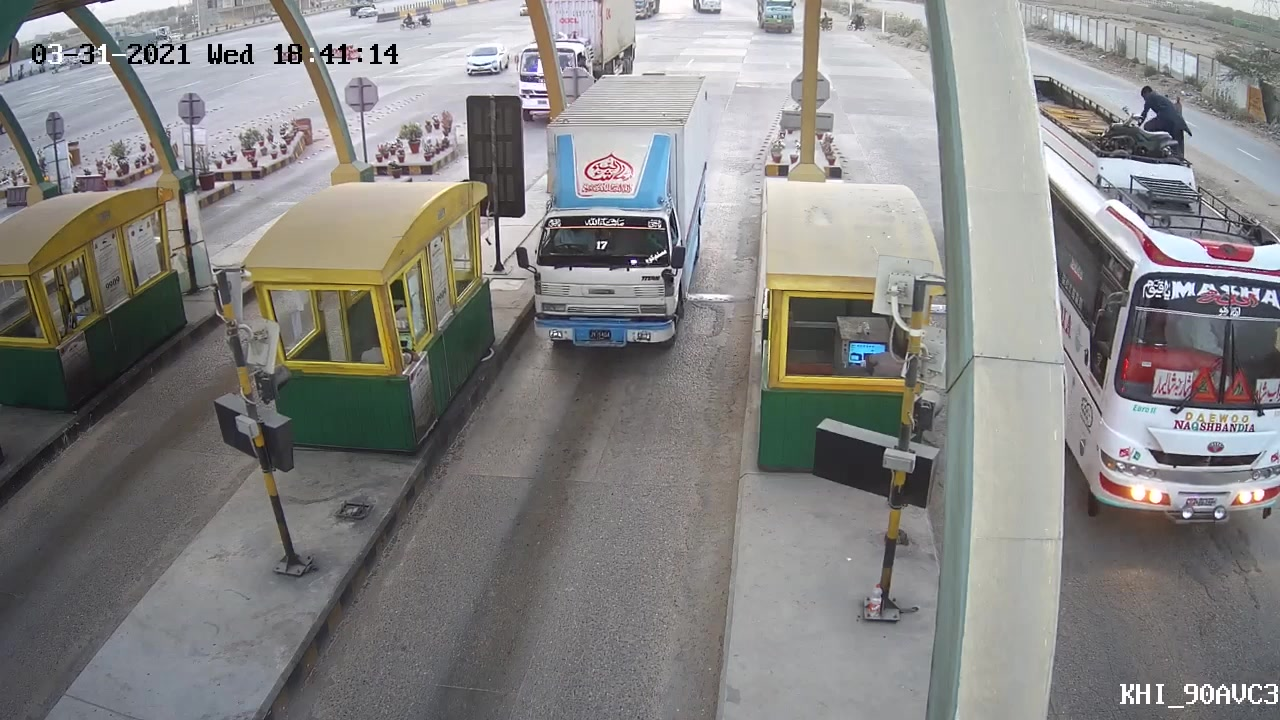F3: (517, 62, 724, 362)
